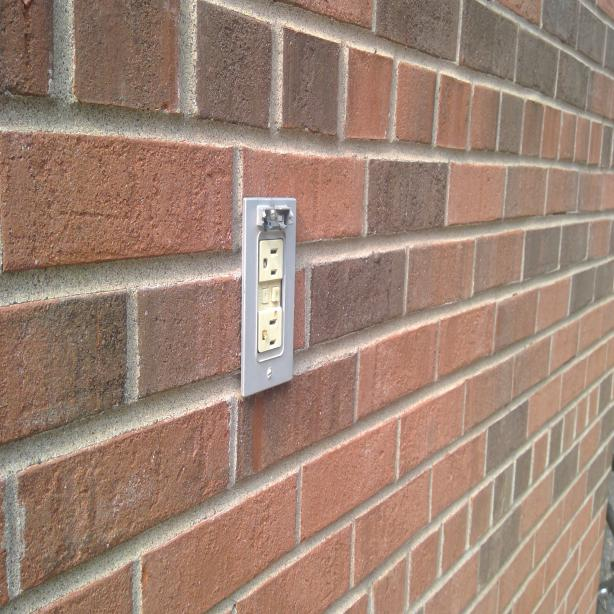typeb: (258, 237, 284, 281), (258, 311, 283, 348)
